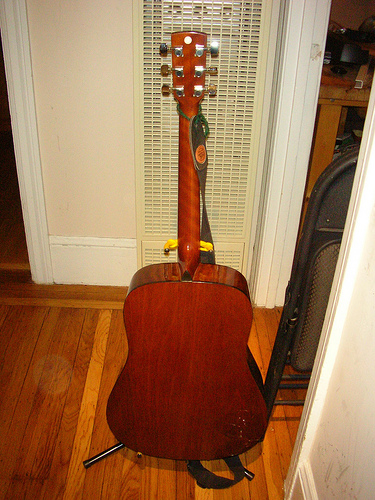guitar: (104, 31, 270, 465)
